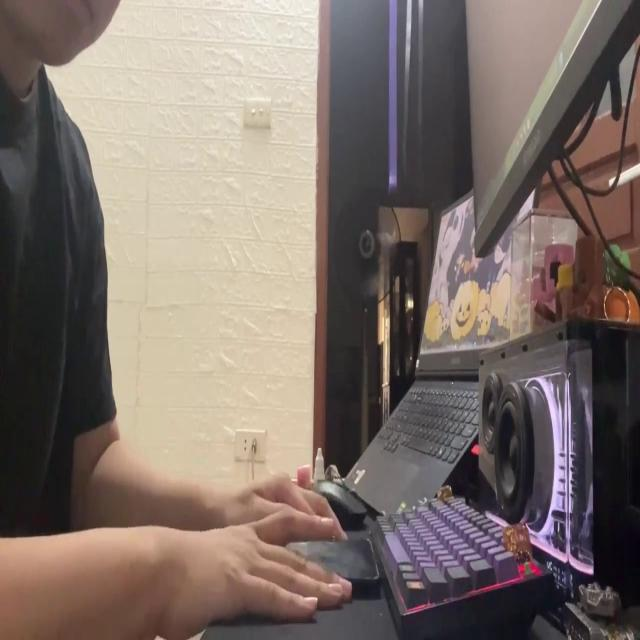laptop: (342, 170, 548, 523), (461, 0, 640, 255)
phone: (275, 527, 380, 599)
student: (0, 0, 351, 640)
